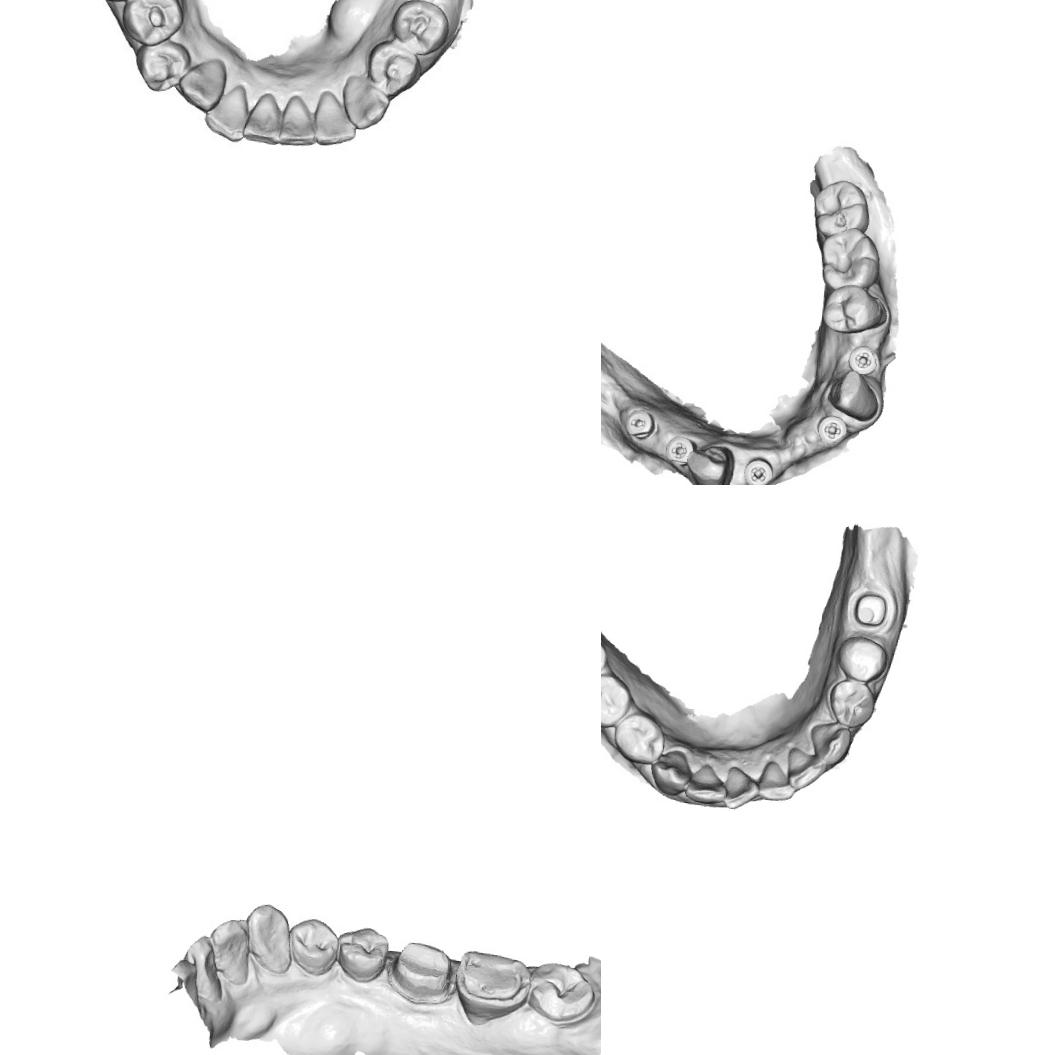abutment: (850, 589, 890, 628)
canine: (241, 900, 295, 976), (174, 48, 230, 117), (825, 367, 881, 422), (341, 75, 388, 132), (804, 719, 854, 767), (683, 441, 735, 485), (648, 746, 693, 796)
crown: (384, 937, 458, 1008)
implant_minus: (621, 405, 660, 442)
implant_plus: (662, 433, 696, 467), (815, 413, 848, 447), (846, 344, 878, 376), (740, 456, 774, 485)
incisor: (180, 932, 230, 1007), (205, 914, 252, 987), (204, 83, 250, 140), (315, 92, 359, 148), (243, 88, 285, 144), (277, 94, 316, 151), (684, 761, 730, 806), (784, 746, 828, 792), (721, 764, 762, 812), (754, 758, 797, 803)
molar: (449, 947, 533, 1030), (524, 959, 597, 1029), (815, 224, 882, 294), (809, 176, 873, 241)
premolar: (362, 35, 426, 96), (331, 922, 392, 986), (284, 914, 342, 977), (820, 281, 886, 336), (610, 708, 668, 766), (390, 0, 453, 53), (834, 633, 890, 684), (826, 676, 877, 730), (137, 40, 186, 92), (128, 0, 179, 41), (601, 669, 634, 730)
